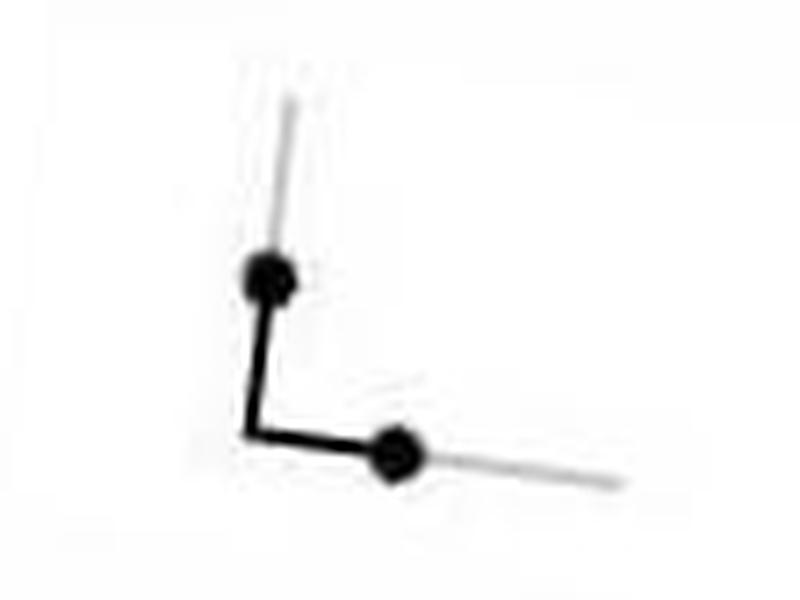butt_weld_90: (169, 209, 663, 506)
